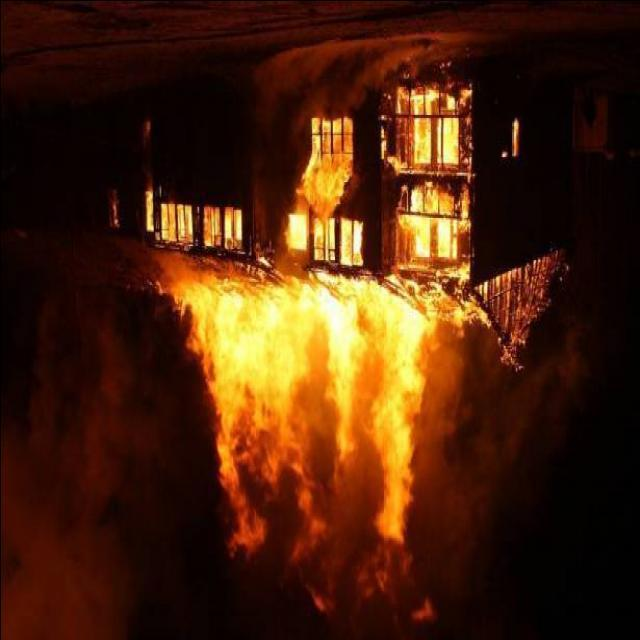Fire: (175, 276, 468, 565), (286, 89, 466, 262), (142, 188, 240, 254)
